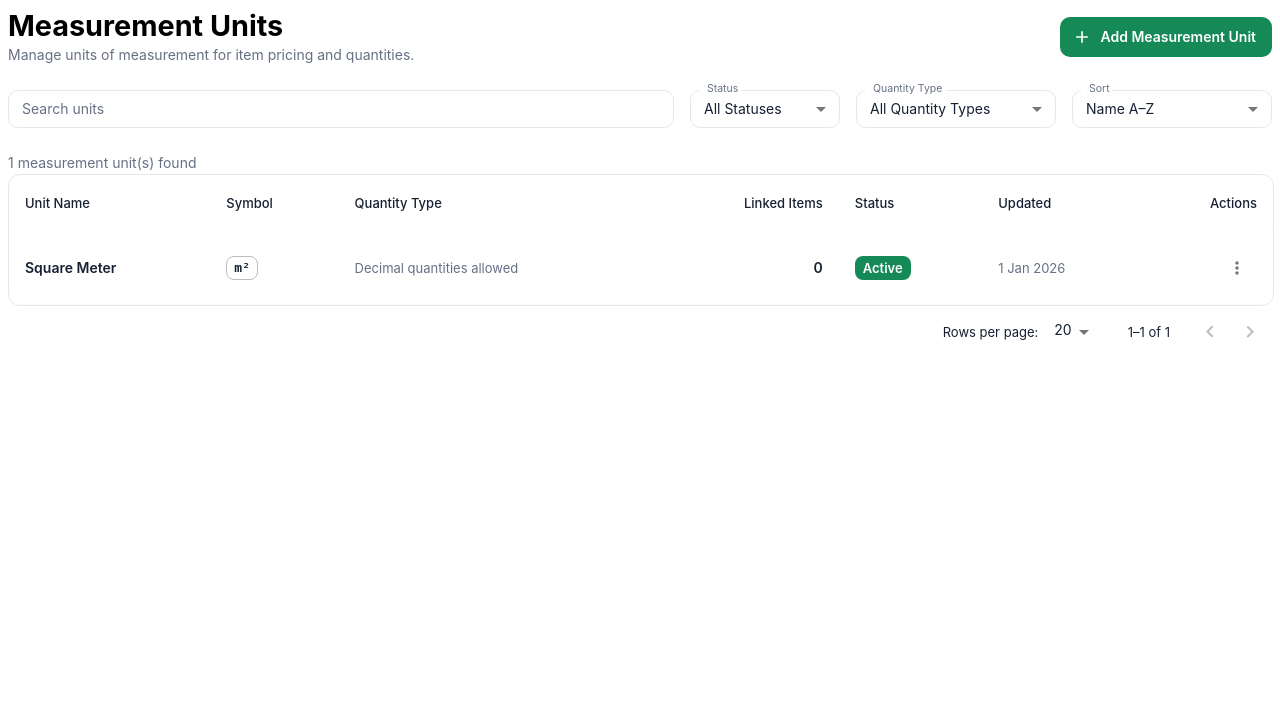
Test case: measurement unit frontend › displays duplicate unit conflict error safely from server response
Click the button "Add Measurement Unit": (1166, 37) top-left (1060, 17), bottom-right (1272, 57)
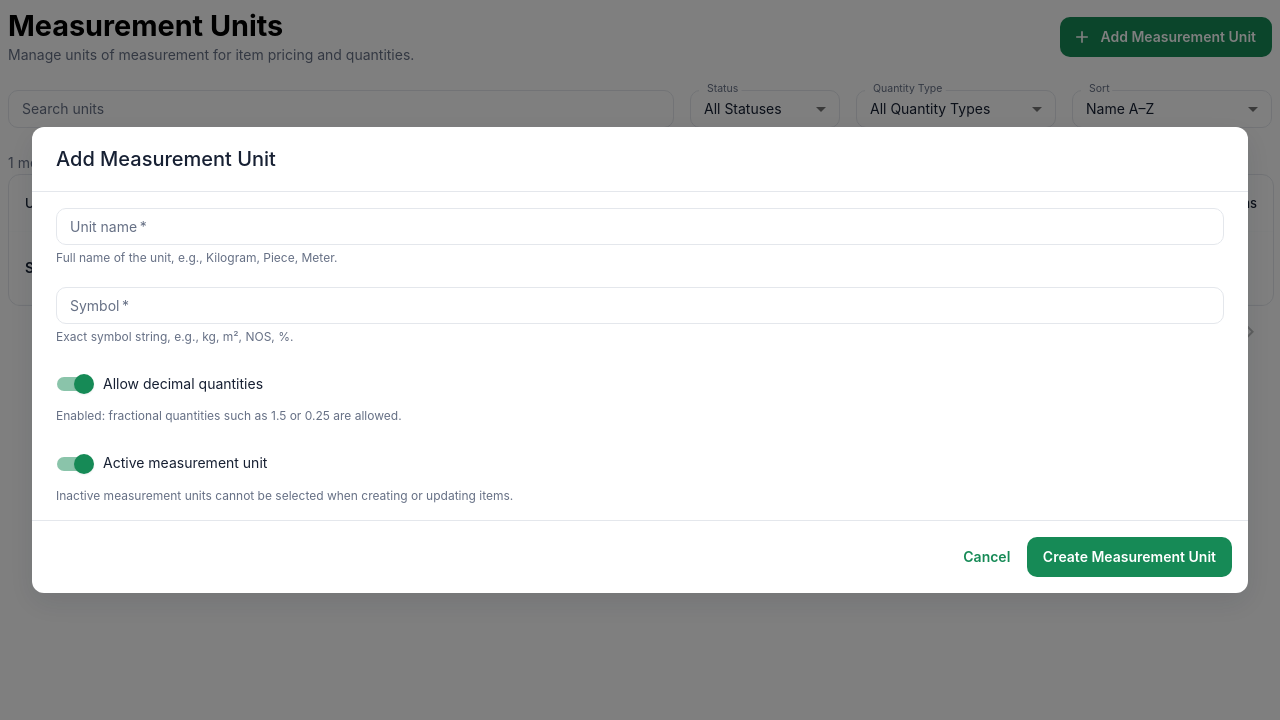
In the field labelled "Unit name *": (640, 227) top-left (56, 208), bottom-right (1224, 245), type "Kilogram"
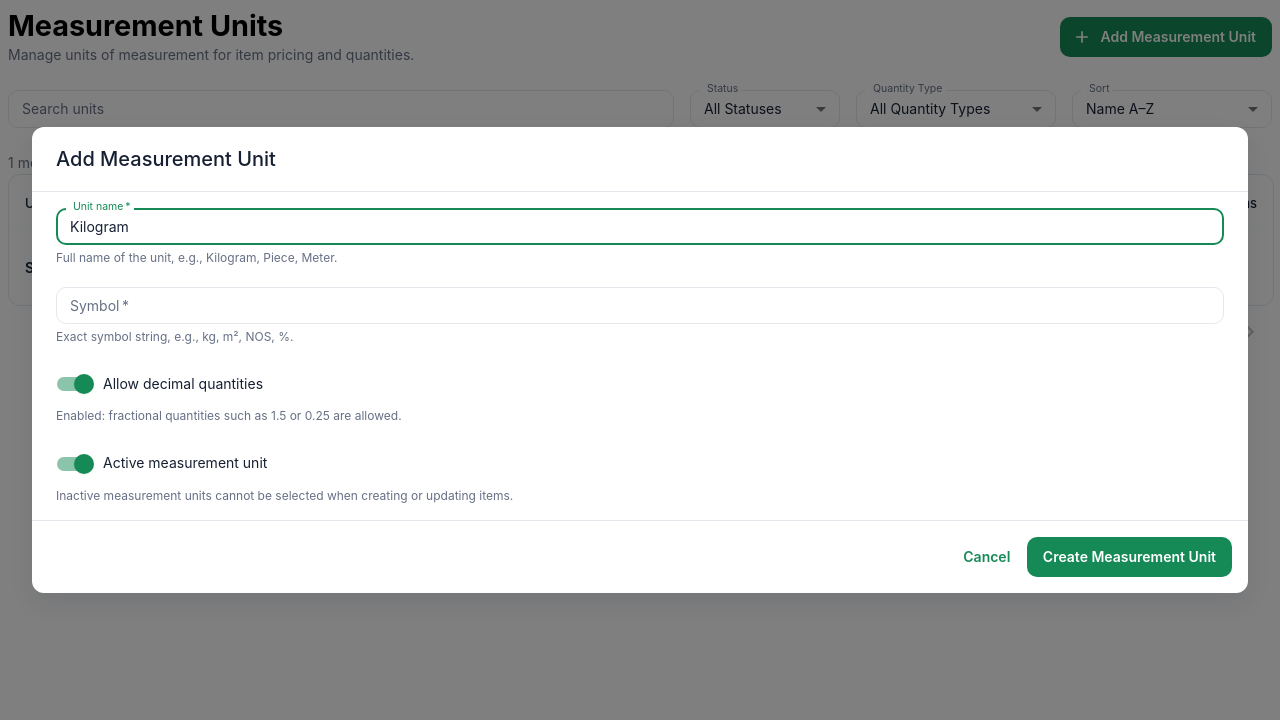
In the field labelled "Symbol *": (640, 305) top-left (56, 287), bottom-right (1224, 324), type "kg"
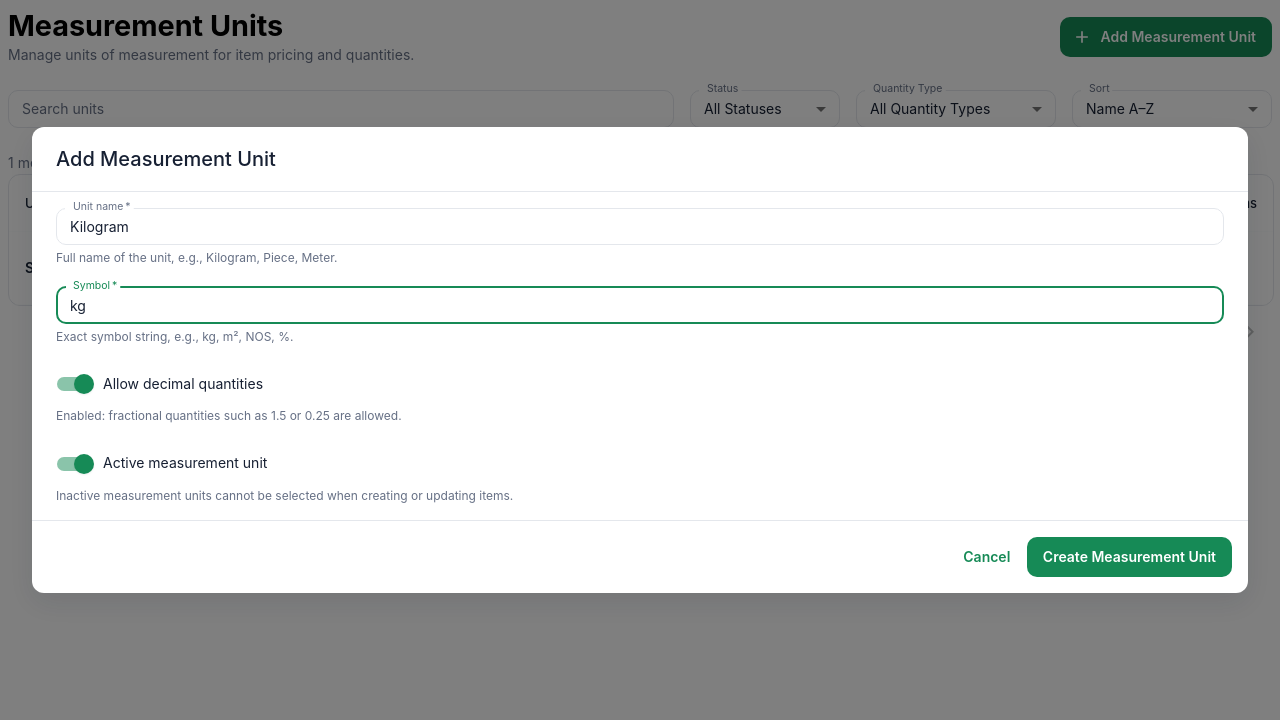
Click the button "Create Measurement Unit": (1129, 557) top-left (1027, 537), bottom-right (1232, 577)
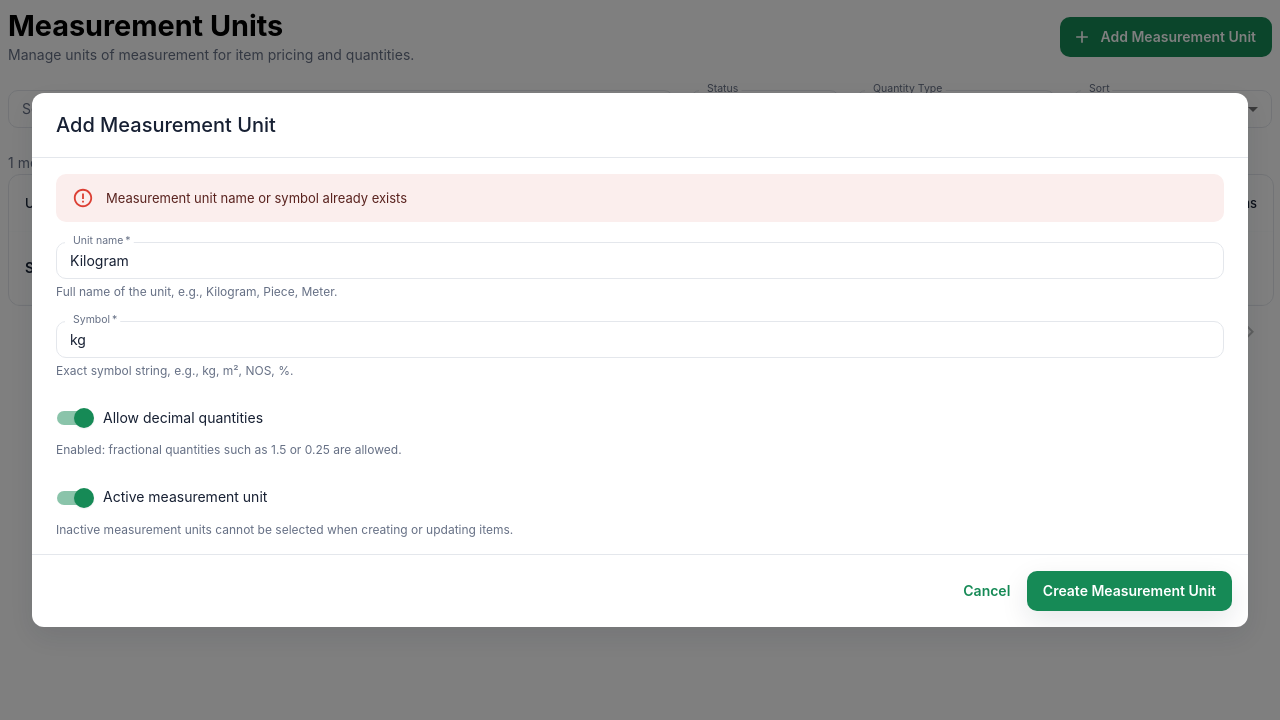
Now the text "Measurement unit name or symbol already exists" is shown, box top-left (106, 190), bottom-right (407, 206)
